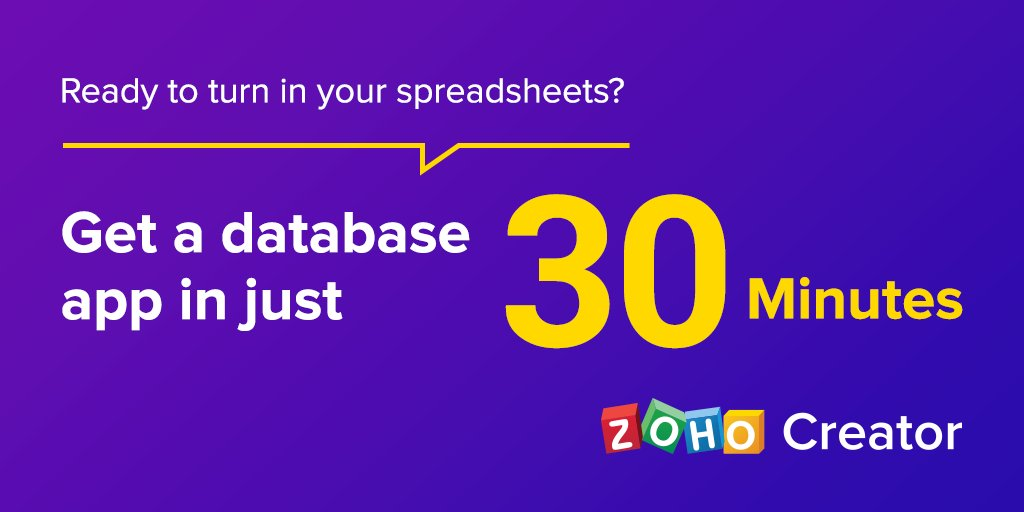zoho: (597, 397, 762, 454)
